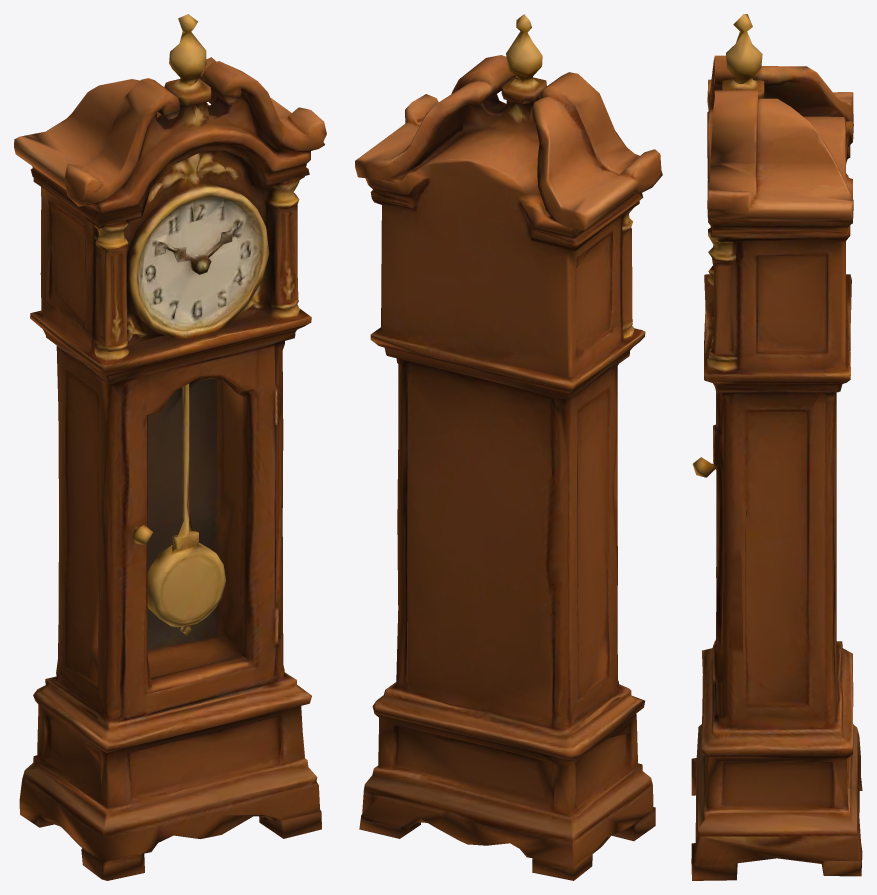
File: clock.glb
The picture shows the model from 3 angles, left to right: view 1: azimuth 30°, elevation 25°; view 2: azimuth 150°, elevation 25°; view 3: azimuth 270°, elevation 25°; orthographic projection. The views are drawn at different scales.
Parts seen in each view (by area): view 1: clock-node; view 2: clock-node; view 3: clock-node.
Boxes of the visible parts, box(x1,y1,x2,y2) form: clock-node: box(14, 14, 326, 880); clock-node: box(355, 14, 662, 880); clock-node: box(691, 14, 862, 880).
Bounding box in the file's own units: 0.3157 × 1 × 0.1903.
1 material, 1 textured.
